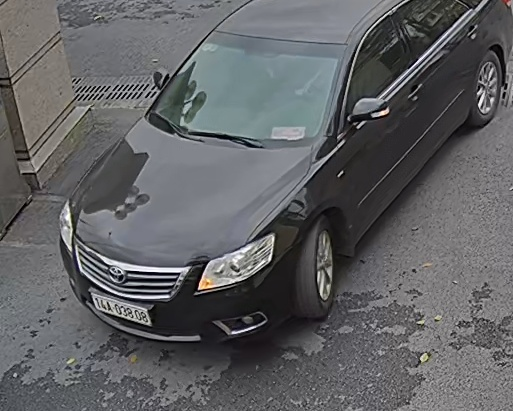vehicle plate: (85, 286, 155, 327)
